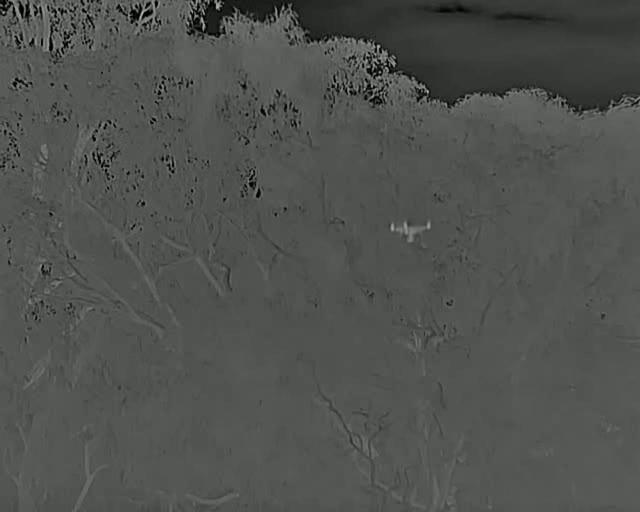DJI-Phantom: (390, 217, 433, 244)
